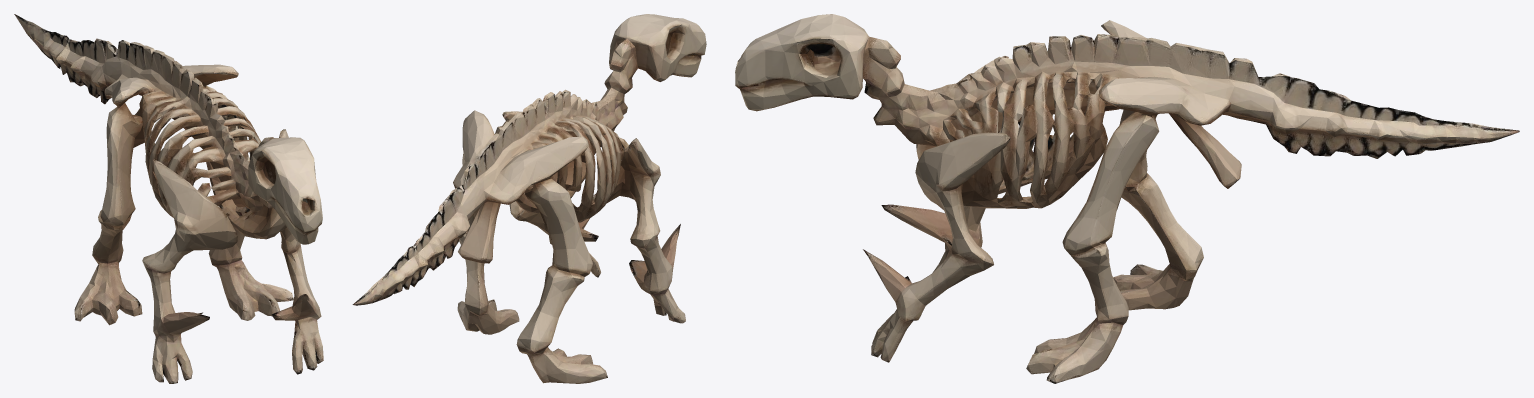
The model's file is iguanodon-skjelett.glb.
The picture shows the model from 3 angles, left to right: view 1: azimuth 30°, elevation 25°; view 2: azimuth 150°, elevation 25°; view 3: azimuth 270°, elevation 25°; orthographic projection. The views are drawn at different scales.
Visible parts, largest first — view 1: geometry_0; view 2: geometry_0; view 3: geometry_0.
Part boxes in pixels (left/top/right/bottom): geometry_0: left=14, top=14, right=323, bottom=383; geometry_0: left=352, top=14, right=706, bottom=383; geometry_0: left=735, top=14, right=1519, bottom=383.
Bounding box in the file's own units: 0.3288 × 0.431 × 0.999.
Materials: 1 (1 with a texture image).
